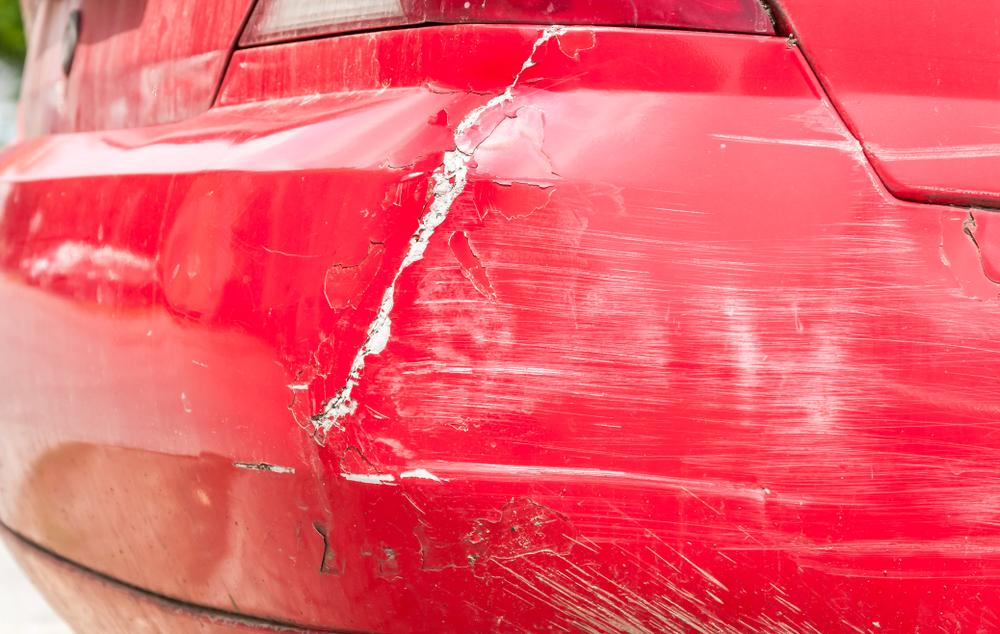scratch: (276, 75, 1000, 634)
